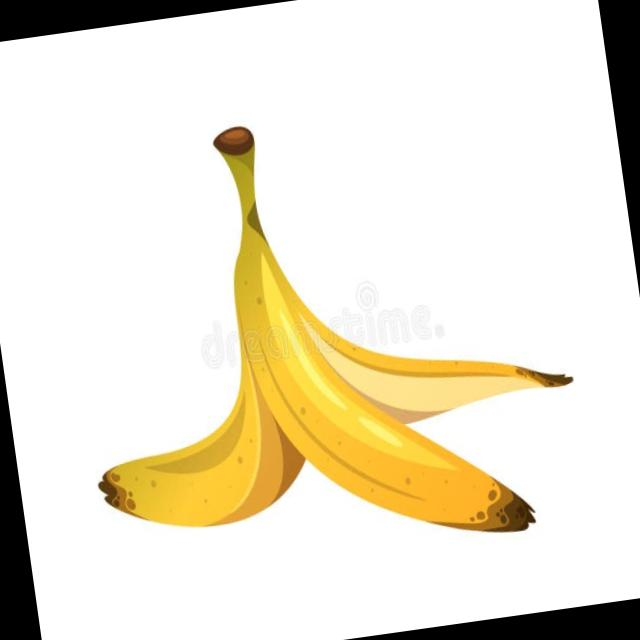banana_peel: (77, 116, 589, 566)
